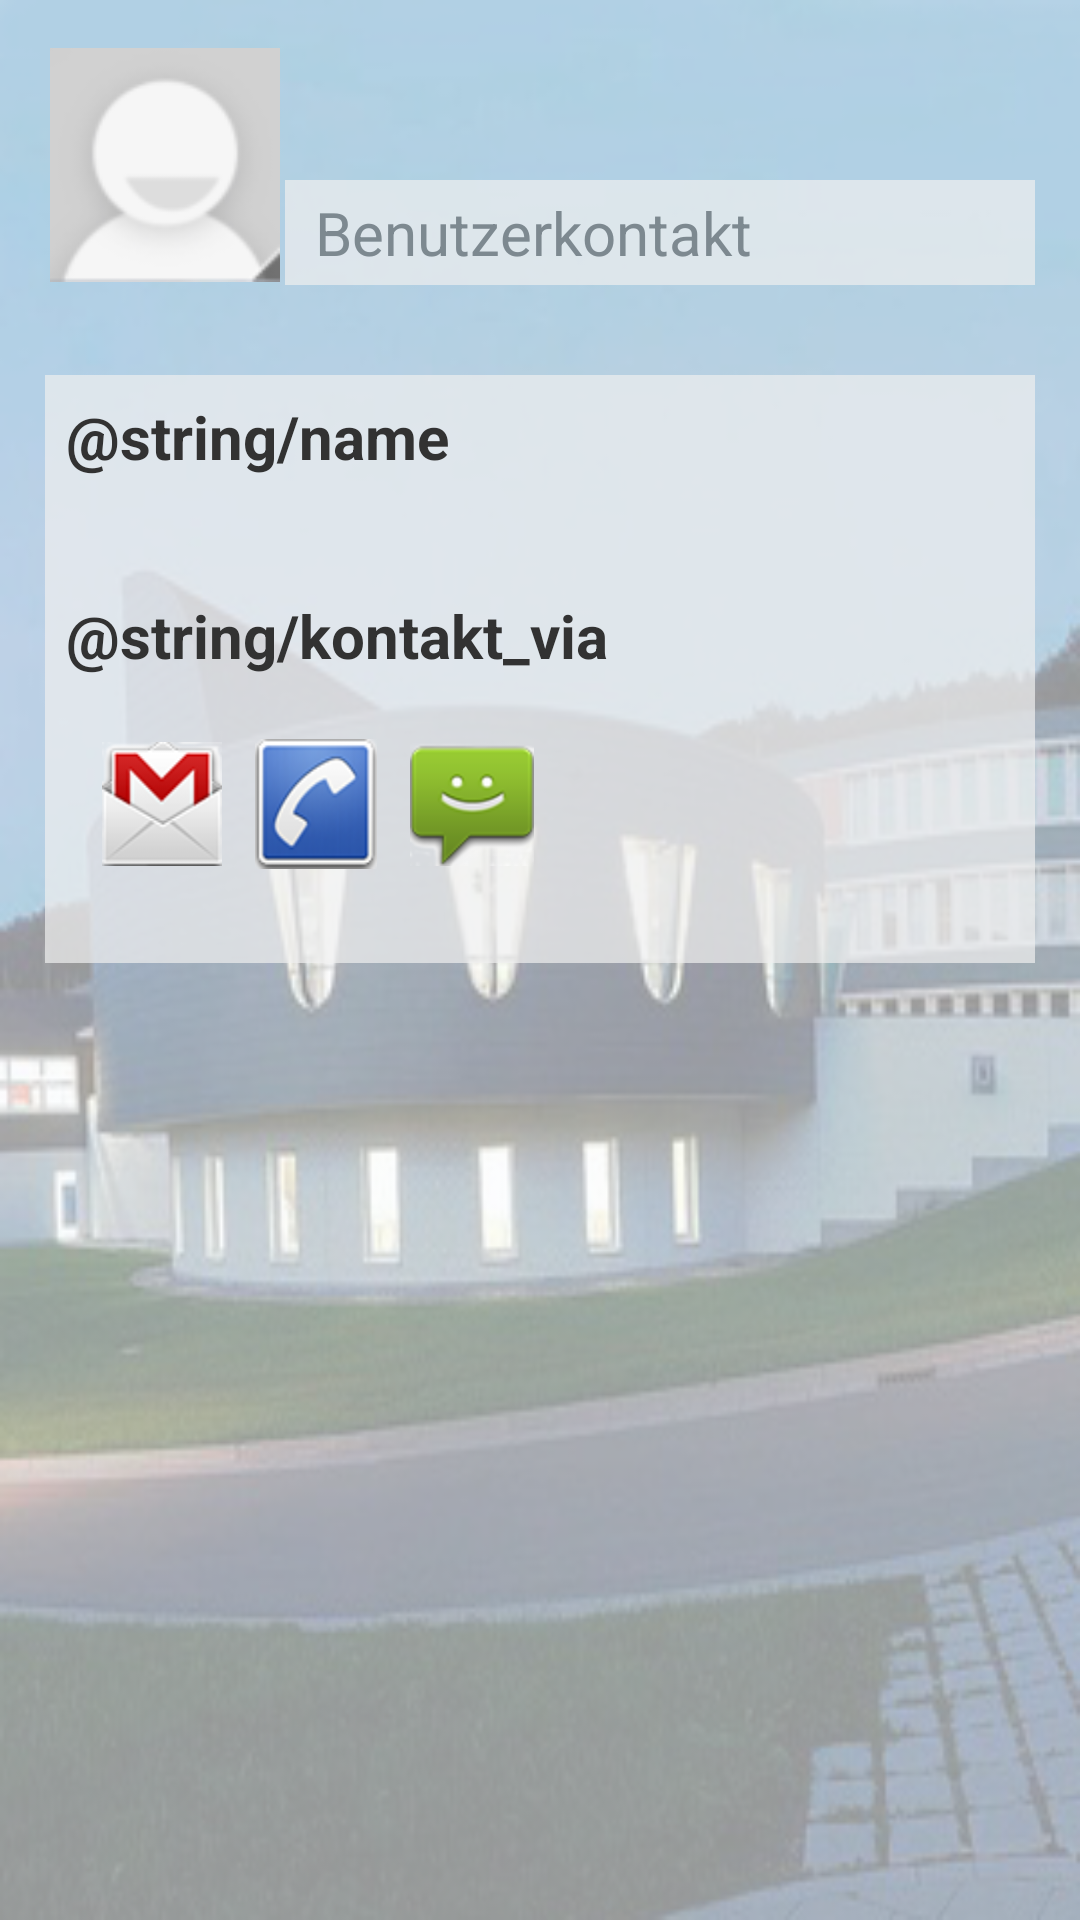

Screen size 1080px×1920px. Icon name, then its box in pixels as [x1=x1, y1=y1, x2=x2, y2=y2]:
profileimage: [x1=50, y1=48, x2=280, y2=282]
smsicon: [x1=410, y1=746, x2=534, y2=866]
telicon: [x1=255, y1=739, x2=376, y2=869]
